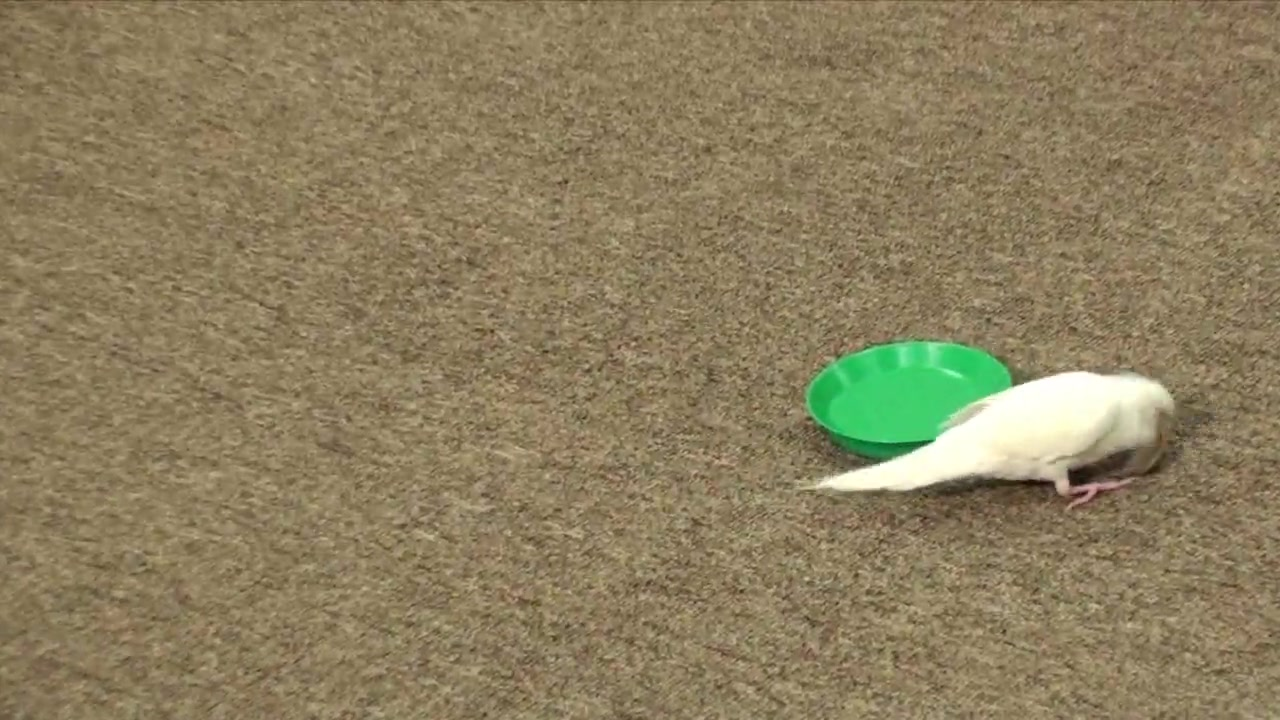bird: (799, 367, 1186, 510)
